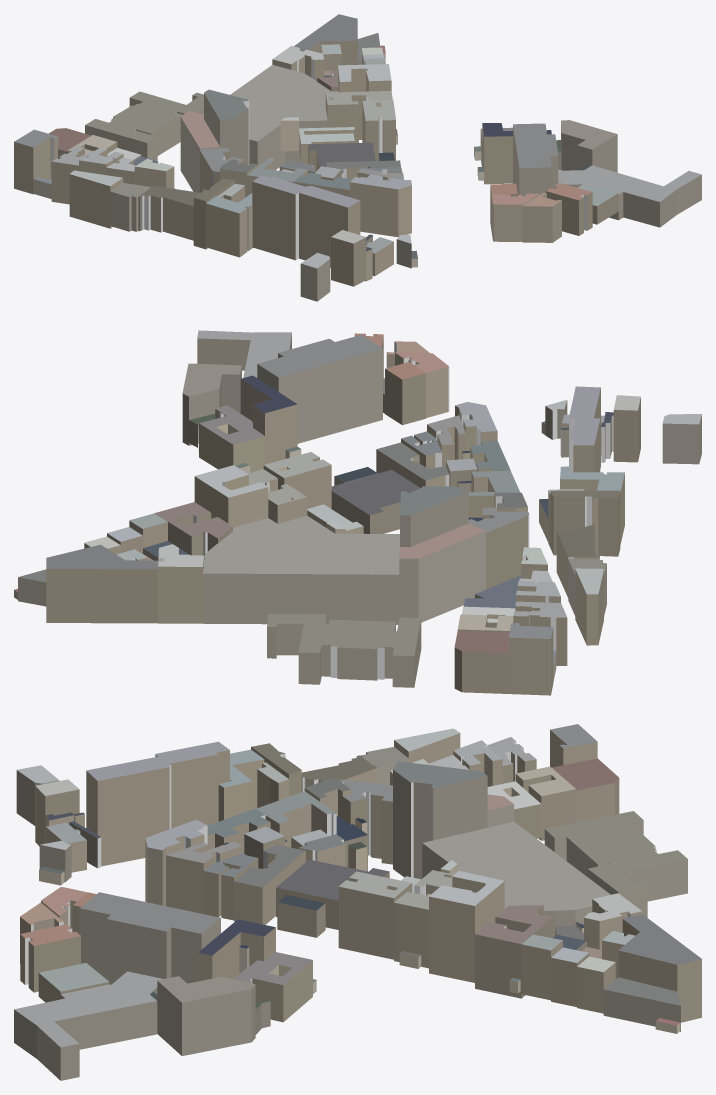
3 views of the same model, one above another, from view 1: azimuth 30°, elevation 25°; view 2: azimuth 150°, elevation 25°; view 3: azimuth 270°, elevation 25° (orthographic). The views are drawn at different scales.
Visible parts, largest first — view 1: tuile; view 2: tuile; view 3: tuile.
Boxes of the visible parts, left/top/right/bottom form: tuile: left=14, top=14, right=701, bottom=301; tuile: left=14, top=330, right=701, bottom=695; tuile: left=14, top=724, right=701, bottom=1080.
Bounding box in the file's own units: 287 × 48.19 × 267.
